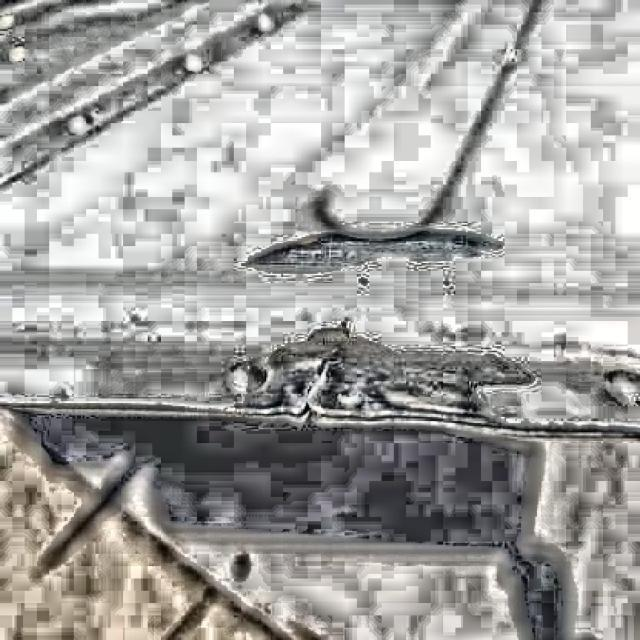crack: (300, 351, 348, 413)
